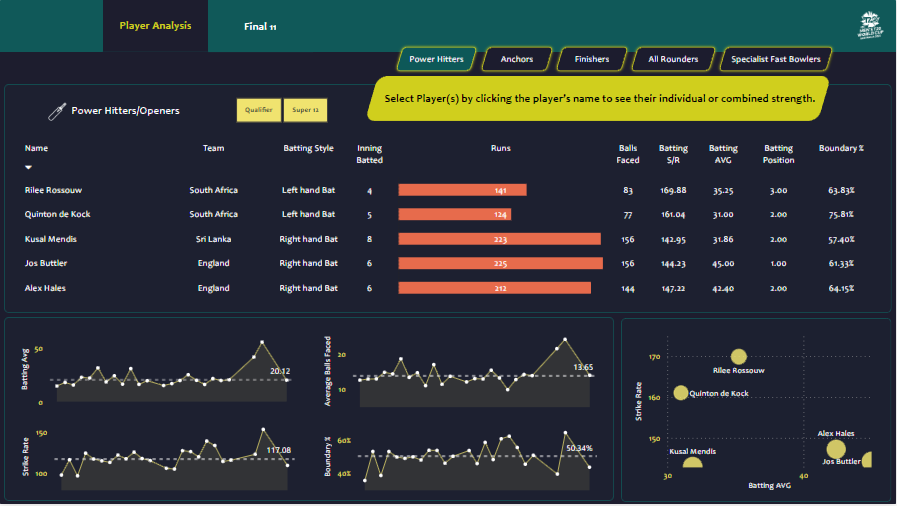

Layout of this report page (visuals, bound fields, positions):
{"tool":"powerbi","page":{"name":"Power Hitters","canvas":[1280,720],"ordinal":0},"visuals":[{"type":"shape","box":[0,73.7,1280.2,646.3],"z":0},{"type":"image","box":[59.8,141.8,44.4,35.9],"z":1000},{"type":"shape","box":[886.8,454.5,386.4,262.7],"z":2000},{"type":"shape","box":[5.7,120,1268,327.1],"z":3000},{"type":"tableEx","fields":{"Values":["player_profile.name","player_profile.team","player_profile.batting_style","key measures.Total Inning Batted","key measures.Total Runs","key measures.Total Balls Faced","key measures.Strike Rate","key measures.Batting Avg","key measures.Batting Position","key measures.Boundary %"]},"box":[24.3,188.6,1232.9,250],"z":4000},{"type":"shape","box":[522.1,108.6,665.7,64.3],"z":5000},{"type":"card","fields":{"Values":["key measures.Strike Rate"]},"box":[854.9,106.3,120,64.3],"z":6000},{"type":"card","fields":{"Values":["key measures.Boundary %"]},"box":[1042.1,106.3,110,64.3],"z":7000},{"type":"card","fields":{"Values":["key measures.Average Balls Faced"]},"box":[927.8,106.3,155.7,65.7],"z":8000},{"type":"card","fields":{"Values":["key measures.Batting Avg"]},"box":[774.9,106.3,118.6,64.3],"z":9000},{"type":"slicer","fields":{"Values":["match_summary.stage"]},"box":[311.4,132.9,181.4,48.6],"z":10000},{"type":"shape","title":"scasfas","box":[80,132.9,198.6,48.6],"z":11000},{"type":"shape","box":[562.1,120,187.1,41.4],"z":12000},{"type":"shape","box":[5.6,453.1,871.5,262.7],"z":13000},{"type":"actionButton","box":[562.1,62.5,124.3,42.9],"z":14000},{"type":"actionButton","box":[682.4,62.9,111.4,42.9],"z":15000},{"type":"actionButton","box":[789.9,62.9,111.4,42.9],"z":16000},{"type":"actionButton","box":[897.4,62.9,130,42.9],"z":17000},{"type":"actionButton","box":[1023.5,62.9,171.4,42.9],"z":18000},{"type":"areaChart","fields":{"Y":["key measures.Batting Avg"],"Category":["match_summary.Date.Variation.Date Hierarchy.Year","match_summary.Date.Variation.Date Hierarchy.Quarter","match_summary.Date.Variation.Date Hierarchy.Month","match_summary.Date.Variation.Date Hierarchy.Day"]},"box":[23.6,467,400.3,119.5],"z":19000},{"type":"areaChart","fields":{"Y":["key measures.Average Balls Faced"],"Category":["match_summary.Date.Variation.Date Hierarchy.Year","match_summary.Date.Variation.Date Hierarchy.Quarter","match_summary.Date.Variation.Date Hierarchy.Month","match_summary.Date.Variation.Date Hierarchy.Day"]},"box":[457.3,465.6,400.3,120.9],"z":20000},{"type":"areaChart","fields":{"Y":["key measures.Strike Rate"],"Category":["match_summary.Date.Variation.Date Hierarchy.Year","match_summary.Date.Variation.Date Hierarchy.Quarter","match_summary.Date.Variation.Date Hierarchy.Month","match_summary.Date.Variation.Date Hierarchy.Day"]},"box":[25,592.1,400,114],"z":21000},{"type":"areaChart","fields":{"Y":["key measures.Boundary %"],"Category":["match_summary.Date.Variation.Date Hierarchy.Year","match_summary.Date.Variation.Date Hierarchy.Quarter","match_summary.Date.Variation.Date Hierarchy.Month","match_summary.Date.Variation.Date Hierarchy.Day"]},"box":[457.3,592.1,400,114],"z":22000},{"type":"scatterChart","fields":{"X":["key measures.Batting Avg"],"Category":["player_profile.name"],"Y":["key measures.Strike Rate"],"Size":["key measures.Total Runs"]},"box":[901.4,465.7,355.7,240],"z":23000},{"type":"actionButton","box":[147.3,0,150.1,73.7],"z":24000},{"type":"actionButton","box":[297.5,1.4,150,73],"z":25000},{"type":"shape","box":[493.4,119.5,728.3,40.3],"z":26000},{"type":"image","box":[1220.4,5.6,47.3,59.8],"z":27000}]}

Visuals, with their boxes in screenshot pixels (x1, y1, x2, y2), scaled from the page's 1280x720 canvas onto the 897x506 screenshot:
shape: (0,52,896,505)
image: (42,100,73,125)
shape: (621,319,892,504)
shape: (4,84,893,314)
tableEx - player_profile.name x player_profile.team: (17,133,881,308)
shape: (366,76,832,122)
card - key measures.Strike Rate: (599,75,683,120)
card - key measures.Boundary %: (730,75,807,120)
card - key measures.Average Balls Faced: (650,75,759,121)
card - key measures.Batting Avg: (543,75,626,120)
slicer - match_summary.stage: (218,93,345,128)
"scasfas" shape: (56,93,195,128)
shape: (394,84,525,113)
shape: (4,318,615,503)
actionButton: (394,44,481,74)
actionButton: (478,44,556,74)
actionButton: (554,44,632,74)
actionButton: (629,44,720,74)
actionButton: (717,44,837,74)
areaChart - key measures.Batting Avg x match_summary.Date.Variation.Date Hierarchy.Year: (17,328,297,412)
areaChart - key measures.Average Balls Faced x match_summary.Date.Variation.Date Hierarchy.Year: (320,327,601,412)
areaChart - key measures.Strike Rate x match_summary.Date.Variation.Date Hierarchy.Year: (18,416,298,496)
areaChart - key measures.Boundary % x match_summary.Date.Variation.Date Hierarchy.Year: (320,416,601,496)
scatterChart - key measures.Batting Avg x player_profile.name: (632,327,881,496)
actionButton: (103,0,208,52)
actionButton: (208,1,314,52)
shape: (346,84,856,112)
image: (855,4,888,46)
